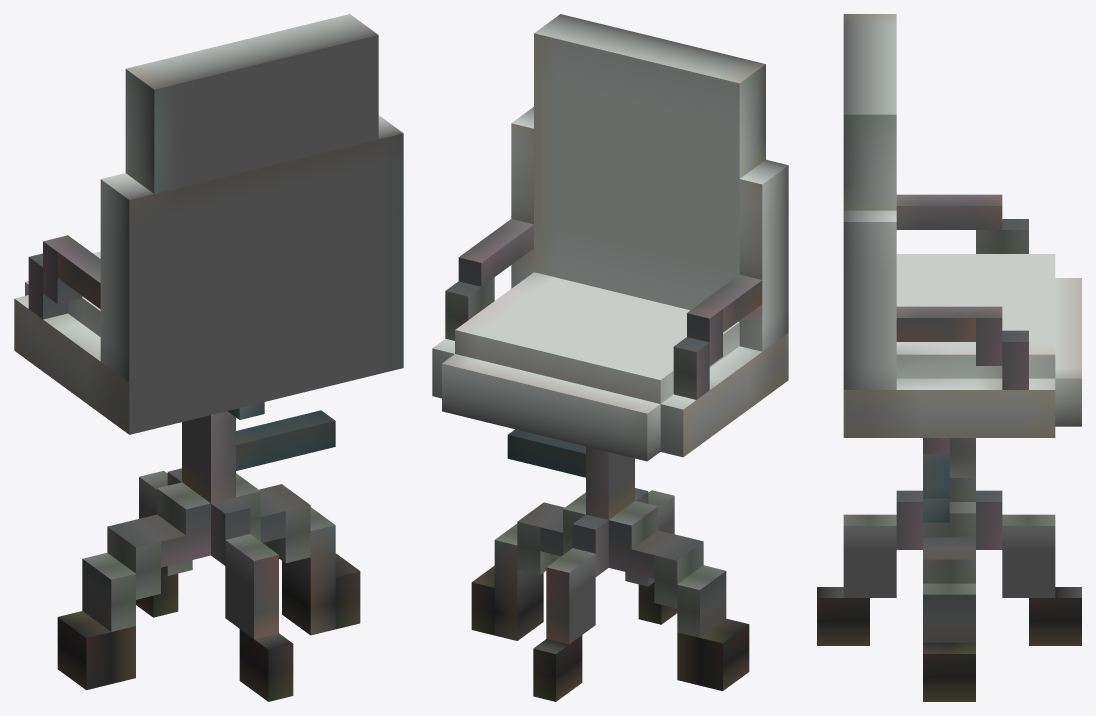
Rendered from OfficeChairWhite_00.fbx.
3 views of the same model, side by side, from view 1: azimuth 30°, elevation 25°; view 2: azimuth 150°, elevation 25°; view 3: azimuth 270°, elevation 25° (orthographic). The views are drawn at different scales.
Visible parts, largest first — view 1: OfficeChairWhite_00; view 2: OfficeChairWhite_00; view 3: OfficeChairWhite_00.
Part boxes in pixels (x1,y1,x2,y2): OfficeChairWhite_00: [14, 14, 403, 701]; OfficeChairWhite_00: [432, 14, 788, 701]; OfficeChairWhite_00: [817, 14, 1081, 701].
Size of the model in its own units: 55 by 50 by 120.
Materials: 1 (1 with a texture image).
